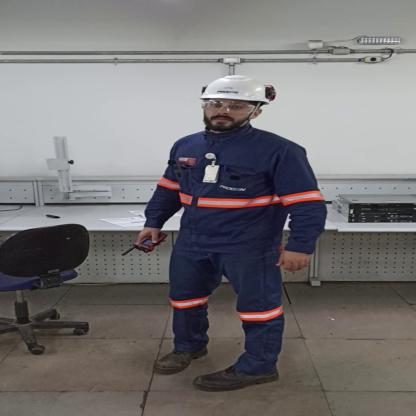Capacete: (198, 73, 283, 105)
